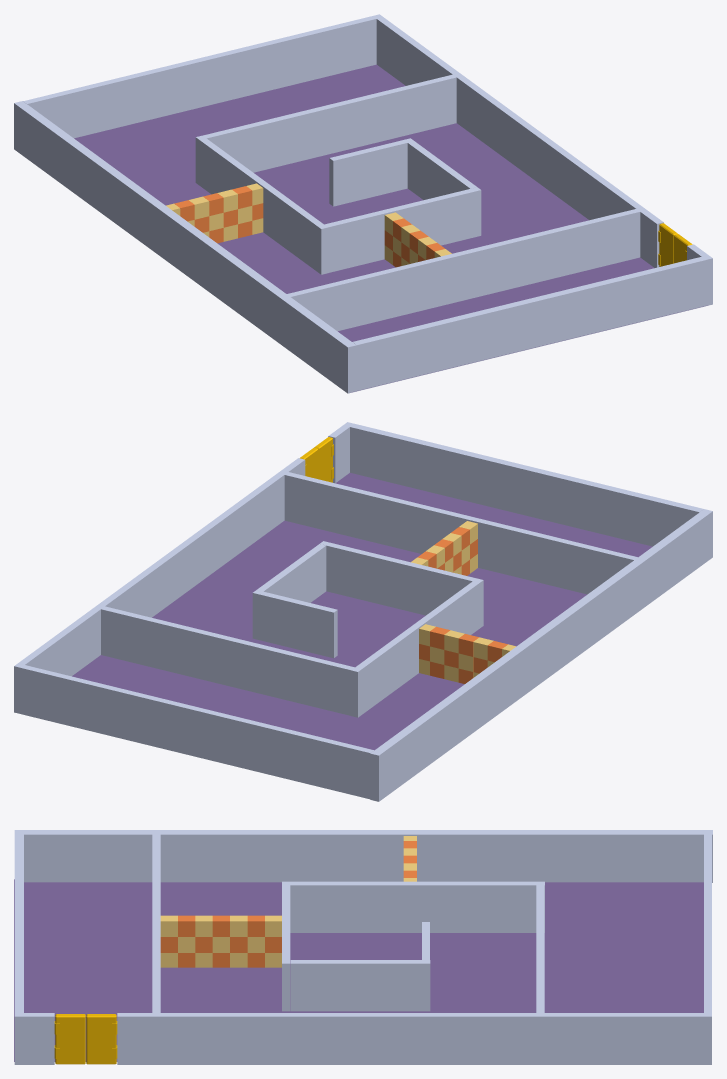
File: maps43.fbx
The picture shows the model from 3 angles, top to bottom: view 1: azimuth 30°, elevation 25°; view 2: azimuth 150°, elevation 25°; view 3: azimuth 270°, elevation 25°; orthographic projection. The views are drawn at different scales.
Parts seen in each view (by area): view 1: wall_01_08_geo, wall_01_07_geo, wall_01_05_geo, wall_01_09_geo11, wall_01_09_geo, wall_01_06_geo1, wall_01_09_geo6, wall_01_09_geo5, wall_01_09_geo9, wall_01_09_geo8, wall_01_09_geo10, polySurface165; view 2: wall_01_08_geo, wall_01_07_geo, wall_01_09_geo, wall_01_05_geo, wall_01_09_geo11, wall_01_09_geo6, wall_01_06_geo1, wall_01_09_geo5, wall_01_09_geo9, wall_01_09_geo8, wall_01_09_geo10, wall_01_06_geo2 (+1 smaller); view 3: wall_01_08_geo, wall_01_07_geo, wall_01_06_geo1, wall_01_09_geo9, wall_01_09_geo10, wall_01_06_geo2, wall_01_05_geo, wall_01_09_geo11, polySurface165, polySurface161, wall_01_09_geo, wall_01_09_geo6 (+7 smaller).
Boxes of the visible parts, x1,y1,x2,y2 form: wall_01_08_geo: [74, 64, 707, 392]; wall_01_07_geo: [14, 101, 356, 393]; wall_01_05_geo: [352, 257, 706, 391]; wall_01_09_geo11: [287, 209, 640, 331]; wall_01_09_geo: [23, 16, 376, 138]; wall_01_06_geo1: [373, 14, 663, 267]; wall_01_09_geo6: [203, 74, 456, 172]; wall_01_09_geo5: [324, 187, 481, 272]; wall_01_09_geo9: [195, 135, 328, 274]; wall_01_09_geo8: [329, 140, 407, 206]; wall_01_09_geo10: [404, 138, 476, 199]; polySurface165: [658, 223, 677, 266]; wall_01_08_geo: [72, 473, 652, 750]; wall_01_07_geo: [370, 509, 712, 801]; wall_01_09_geo: [20, 665, 373, 799]; wall_01_05_geo: [350, 423, 703, 546]; wall_01_09_geo11: [284, 472, 637, 594]; wall_01_09_geo6: [101, 606, 354, 715]; wall_01_06_geo1: [14, 458, 305, 713]; wall_01_09_geo5: [320, 541, 476, 615]; wall_01_09_geo9: [351, 578, 483, 717]; wall_01_09_geo8: [259, 591, 337, 658]; wall_01_09_geo10: [252, 544, 326, 640]; wall_01_06_geo2: [328, 422, 353, 483]; wall_01_08_geo: [14, 879, 703, 1061]; wall_01_07_geo: [14, 830, 712, 882]; wall_01_06_geo1: [117, 1013, 711, 1064]; wall_01_09_geo9: [282, 881, 544, 932]; wall_01_09_geo10: [290, 960, 430, 1011]; wall_01_06_geo2: [14, 1013, 54, 1064]; wall_01_05_geo: [14, 834, 23, 1012]; wall_01_09_geo11: [152, 834, 160, 1012]; polySurface165: [86, 1014, 117, 1064]; polySurface161: [54, 1014, 85, 1064]; wall_01_09_geo: [704, 834, 711, 1012]; wall_01_09_geo6: [536, 885, 544, 1012].
Bounding box in the file's own units: 73.42 × 8.96 × 116.
Materials: 3 (3 with a texture image).
